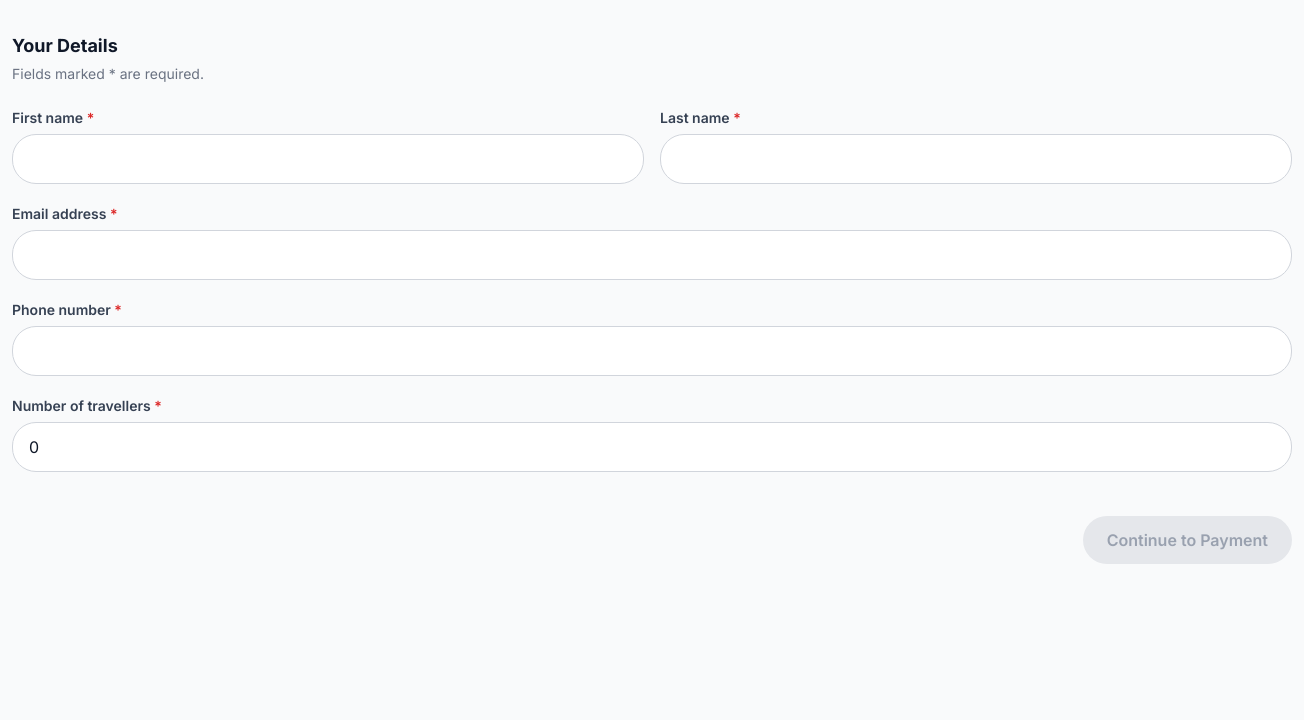
Test: TravellerForm › Submission failure (unhappy path) › shows an error banner when submission fails
Type "Jane" into the field labelled "First name *" at (328, 159), box [12,134,644,184]
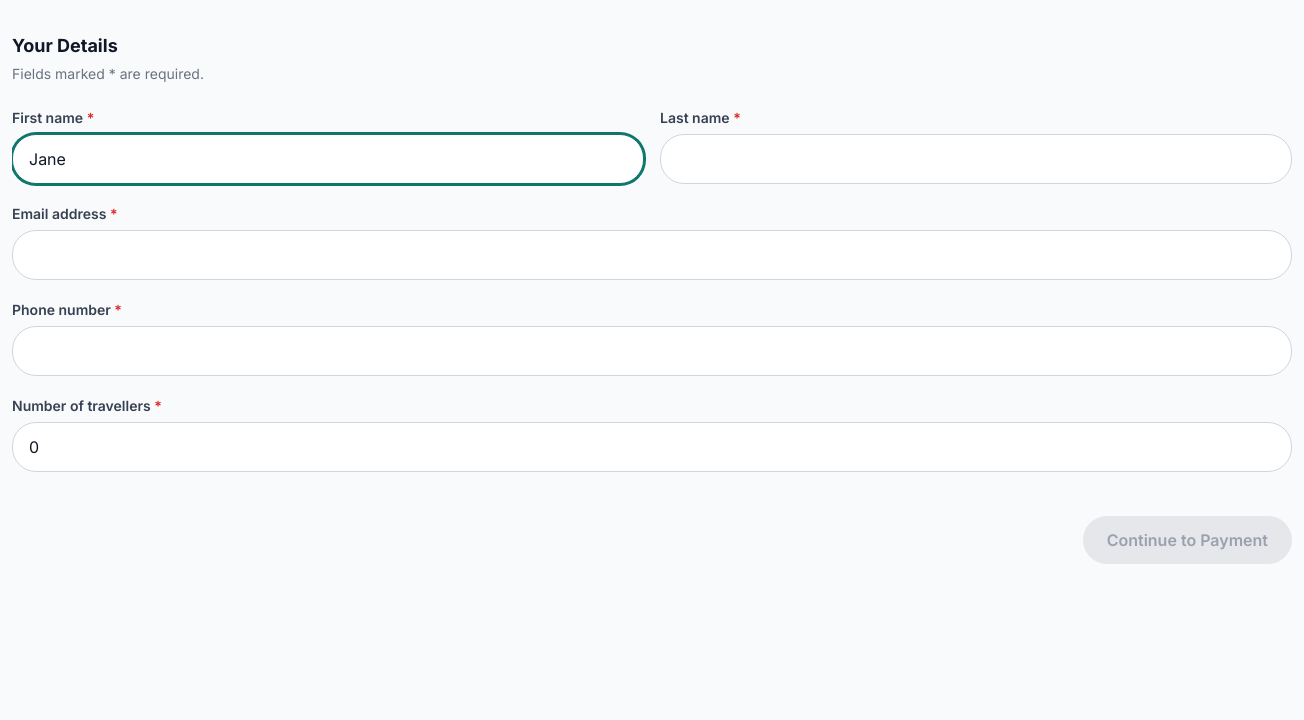
Type "Smith" into the field labelled "Last name *" at (976, 159), box [660,134,1292,184]
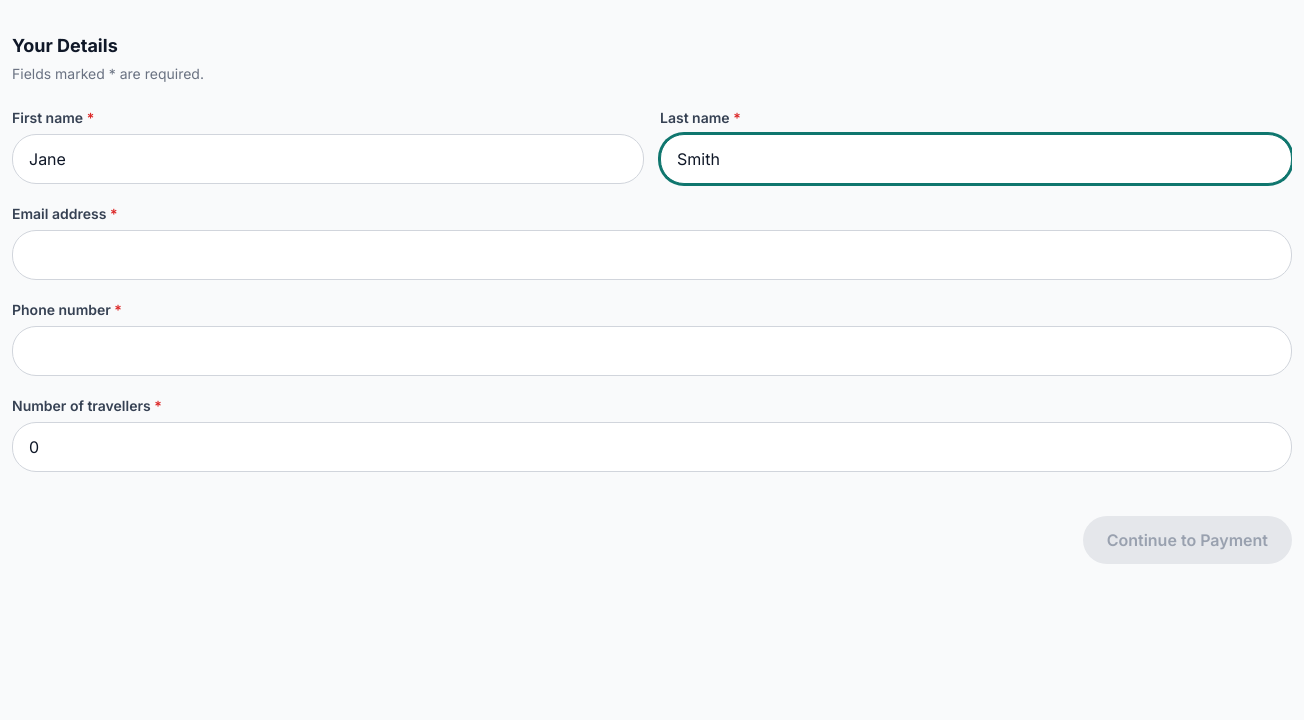
Type "jane@example.com" into the field labelled "Email address *" at (652, 255), box [12,230,1292,280]
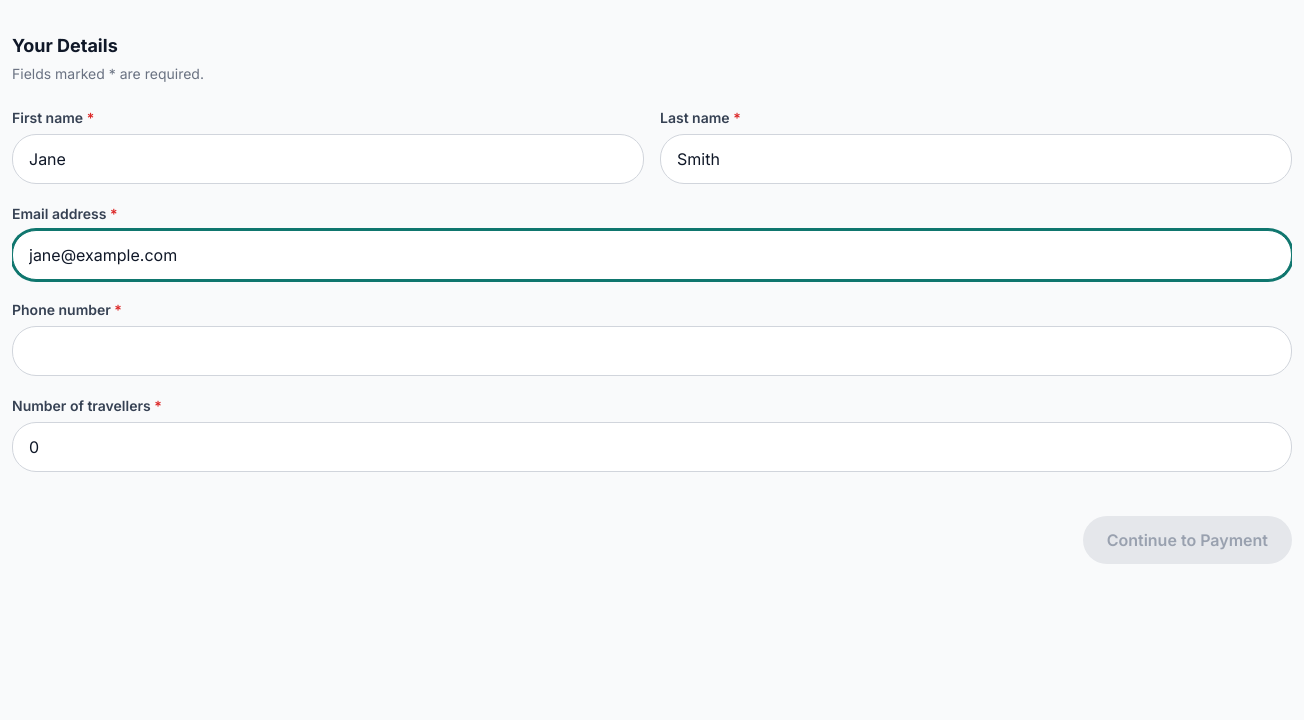
Type "+44 7700 900000" into the field labelled "Phone number *" at (652, 351), box [12,326,1292,376]
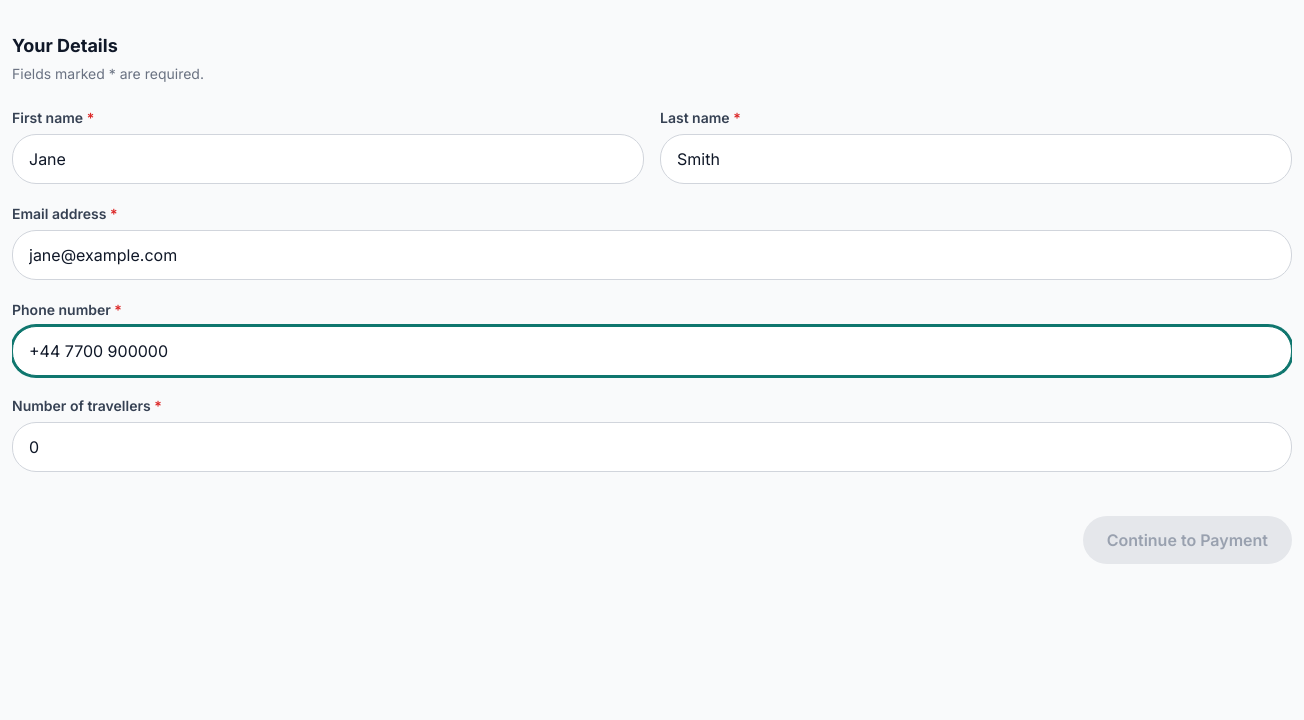
Replace the text in the number field labelled "Number of travellers *" with "2" at (652, 447), box [12,422,1292,472]
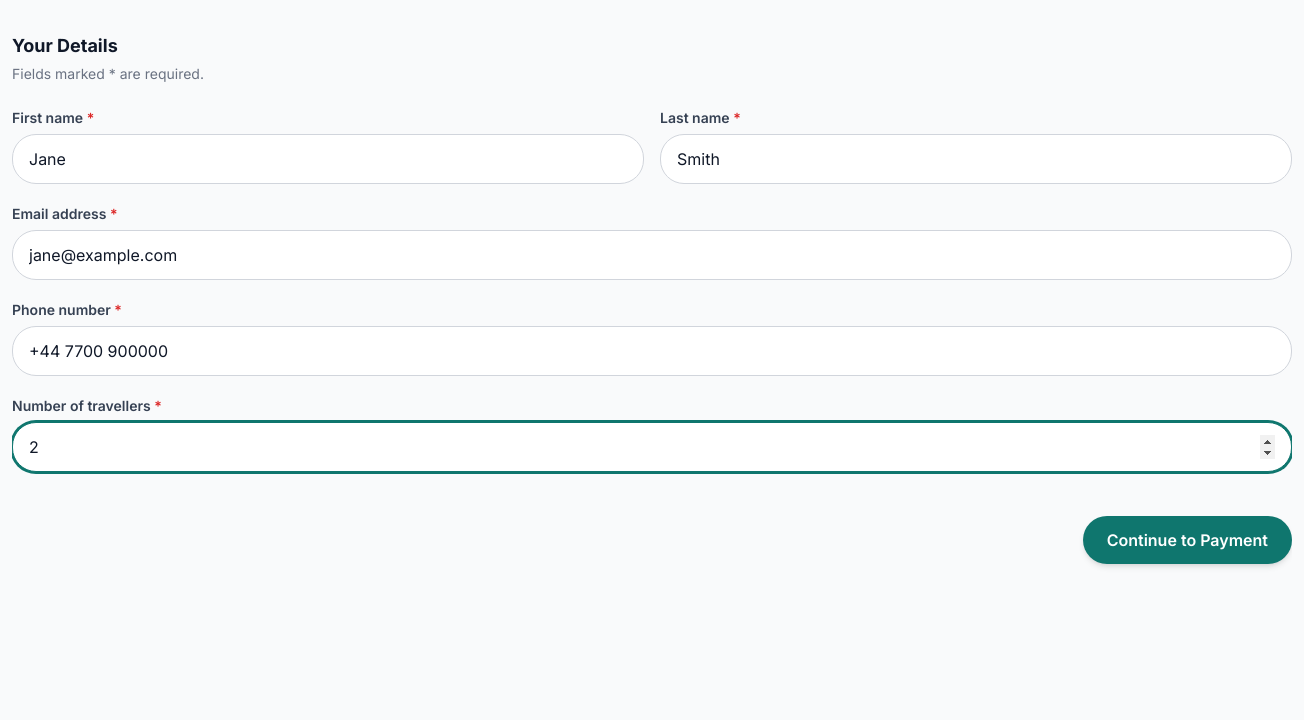
Click the button "Continue to Payment" at (1187, 540), box [1083,516,1292,564]
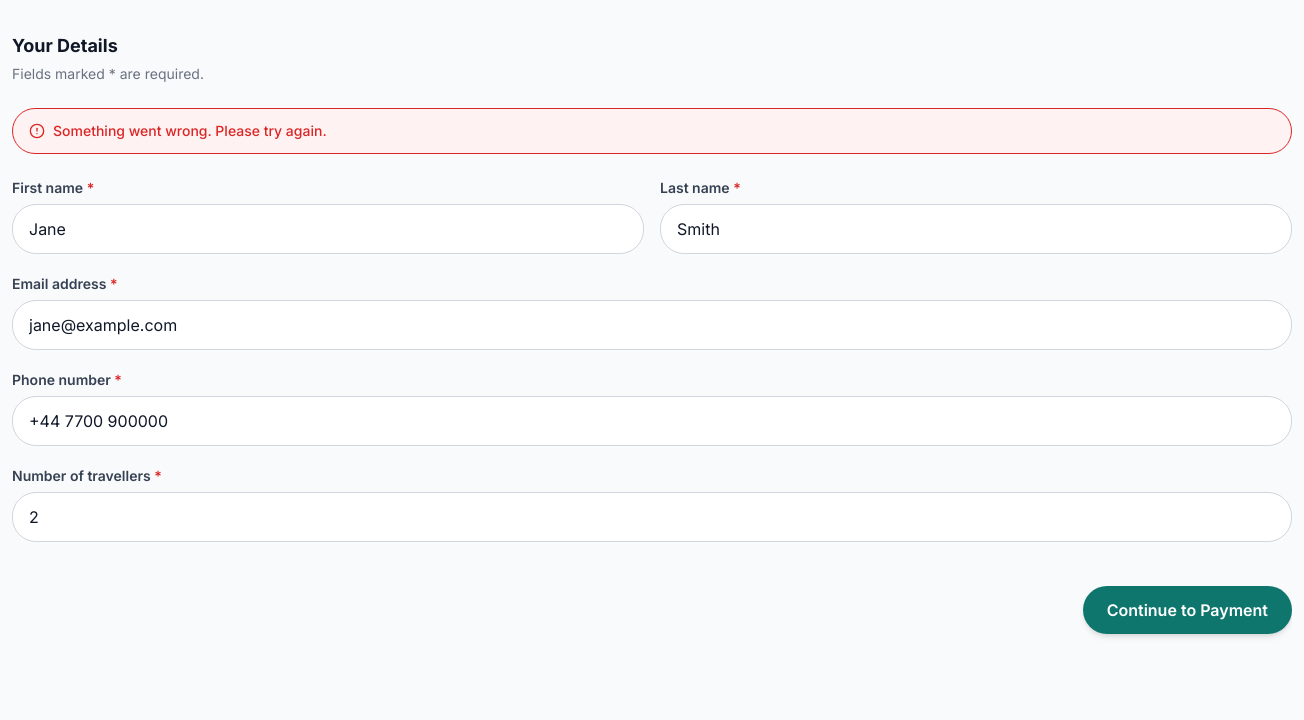
Now the text "Something went wrong. Please try again." is shown, box [12,108,1292,154]
